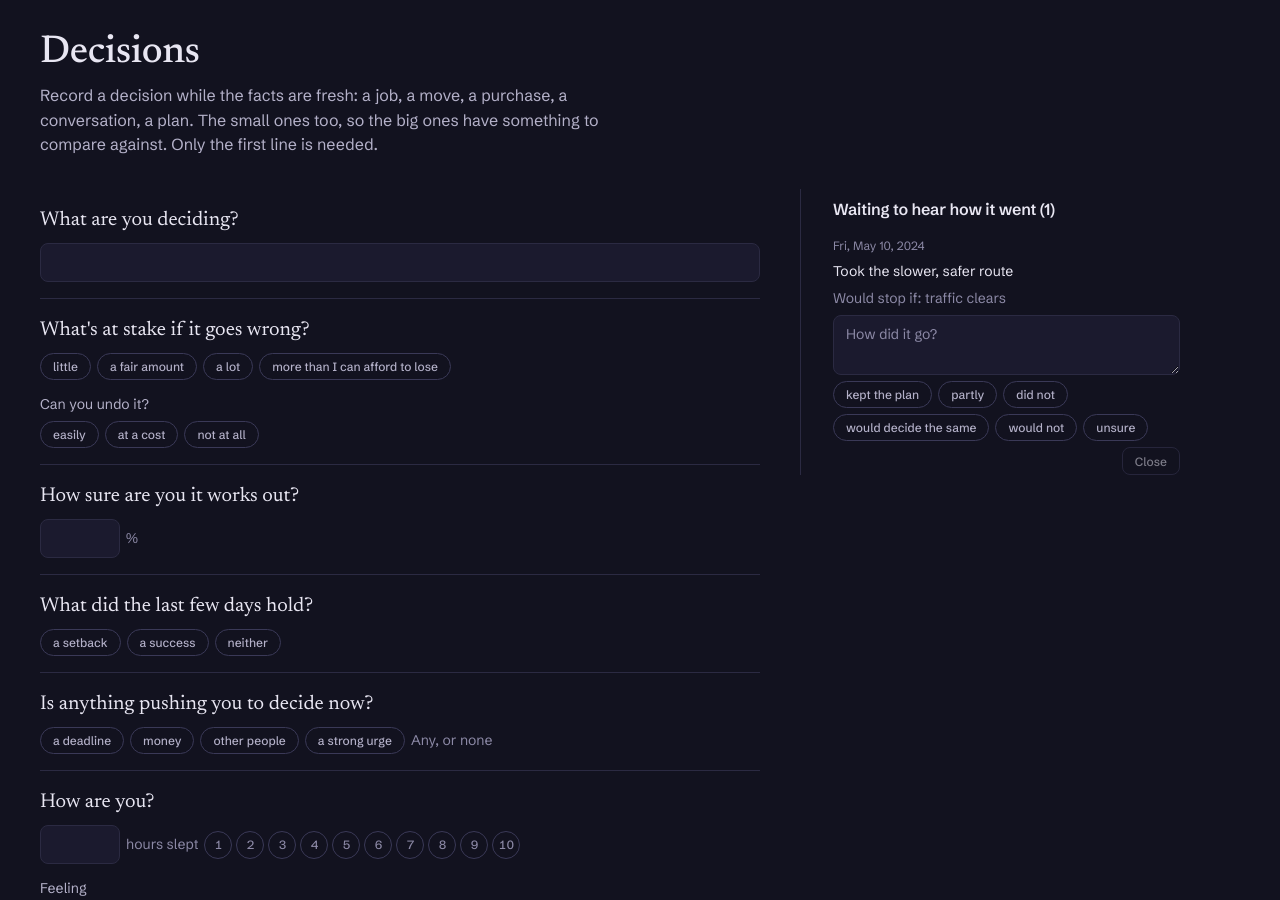
Scenario: closing a decision › records how it went, the plan, and whether it would be decided the same, then closes it
The image size is (1280, 900).
Type "Late, but calm" into the text box labelled "How did it go?" at (1006, 345), box [833,315,1180,375]
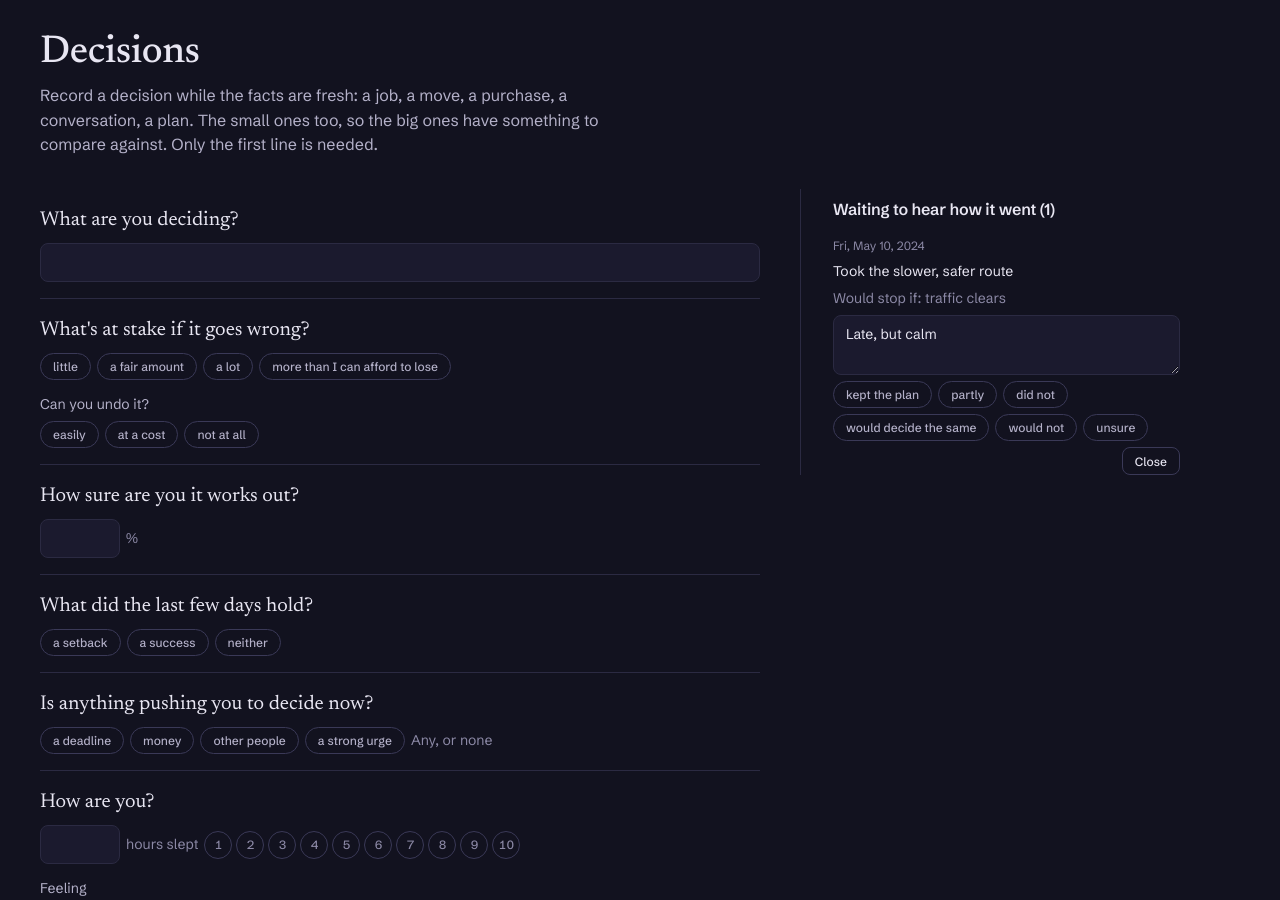
Click the button "kept the plan" at (883, 395), box [833,381,932,408]
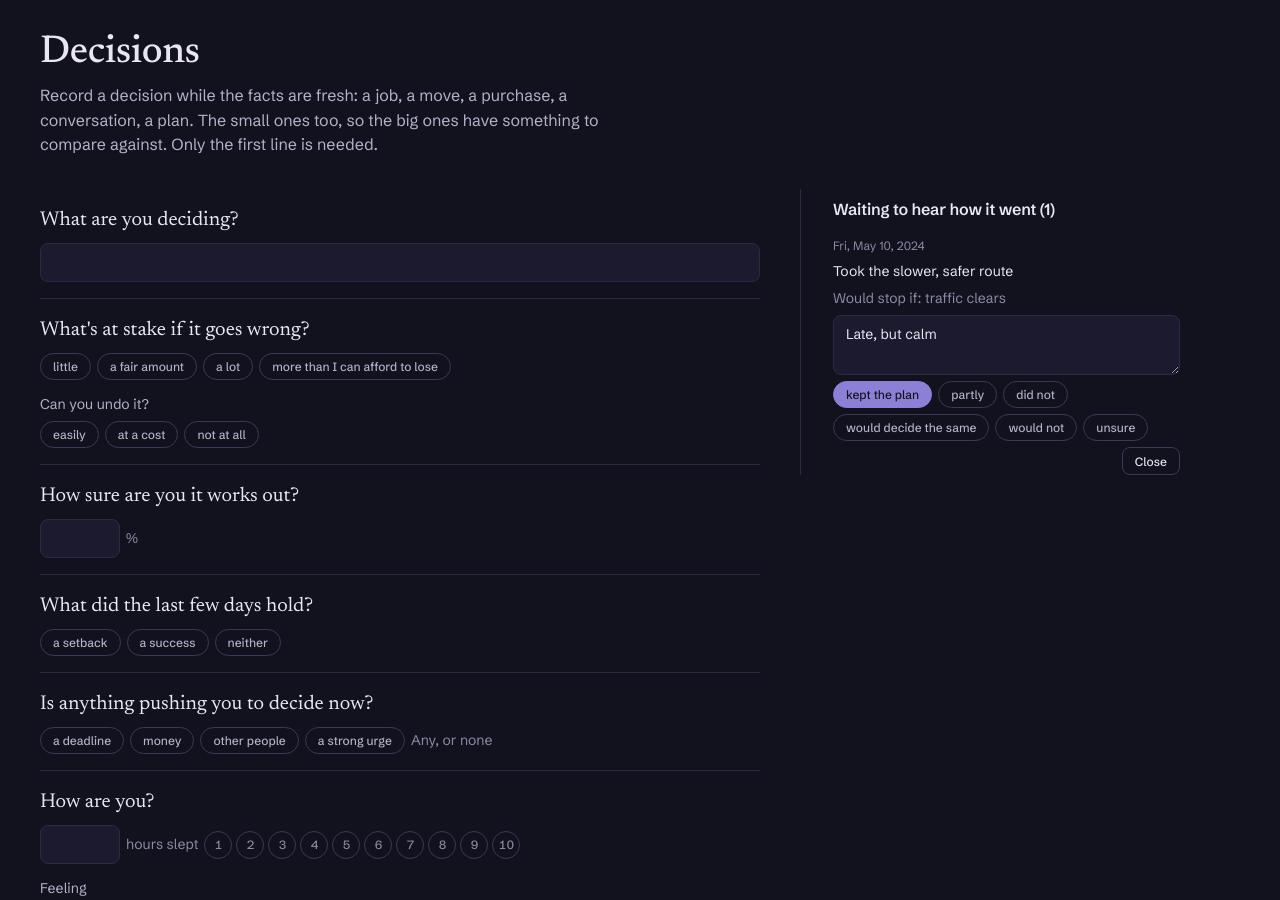
Click the button "would decide the same" at (911, 428), box [833,414,990,441]
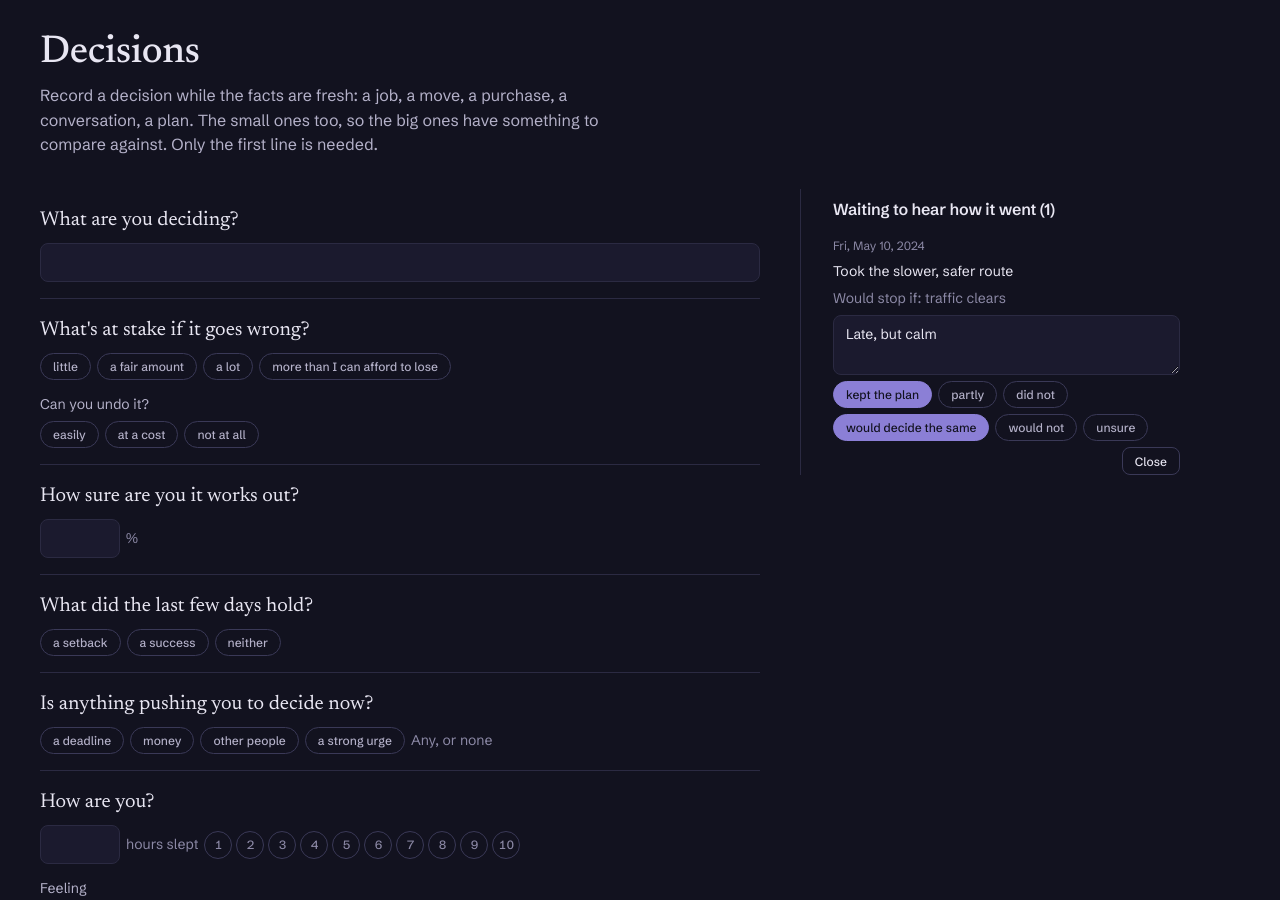
Click the button "Close" at (1151, 461), box [1122,447,1180,475]
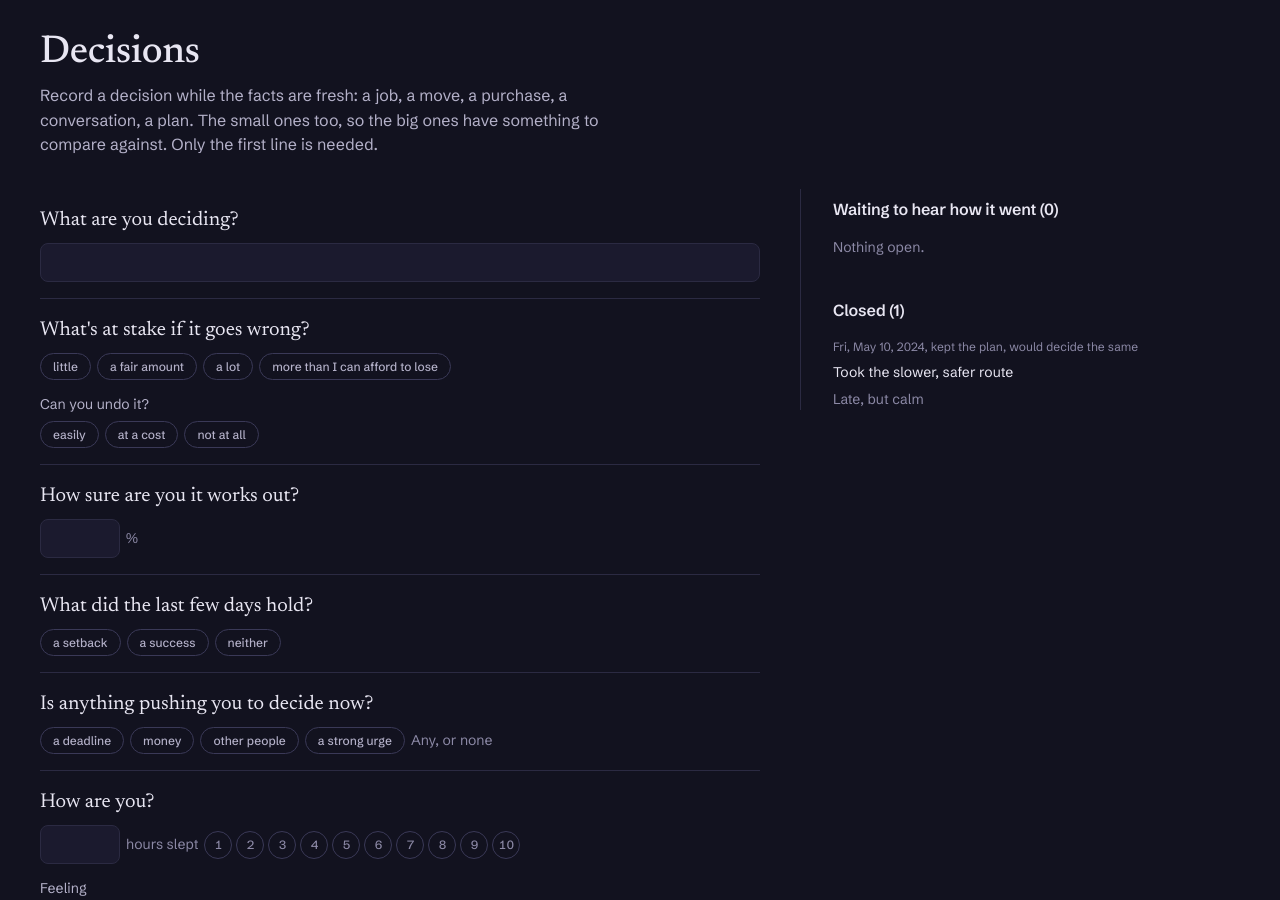
Expected: the text "Late, but calm" is shown, [833,390,924,408]
Expected: the heading "Closed (1)" is shown, [833,300,904,320]
Expected: the text "Nothing open." is shown, [833,238,924,256]
